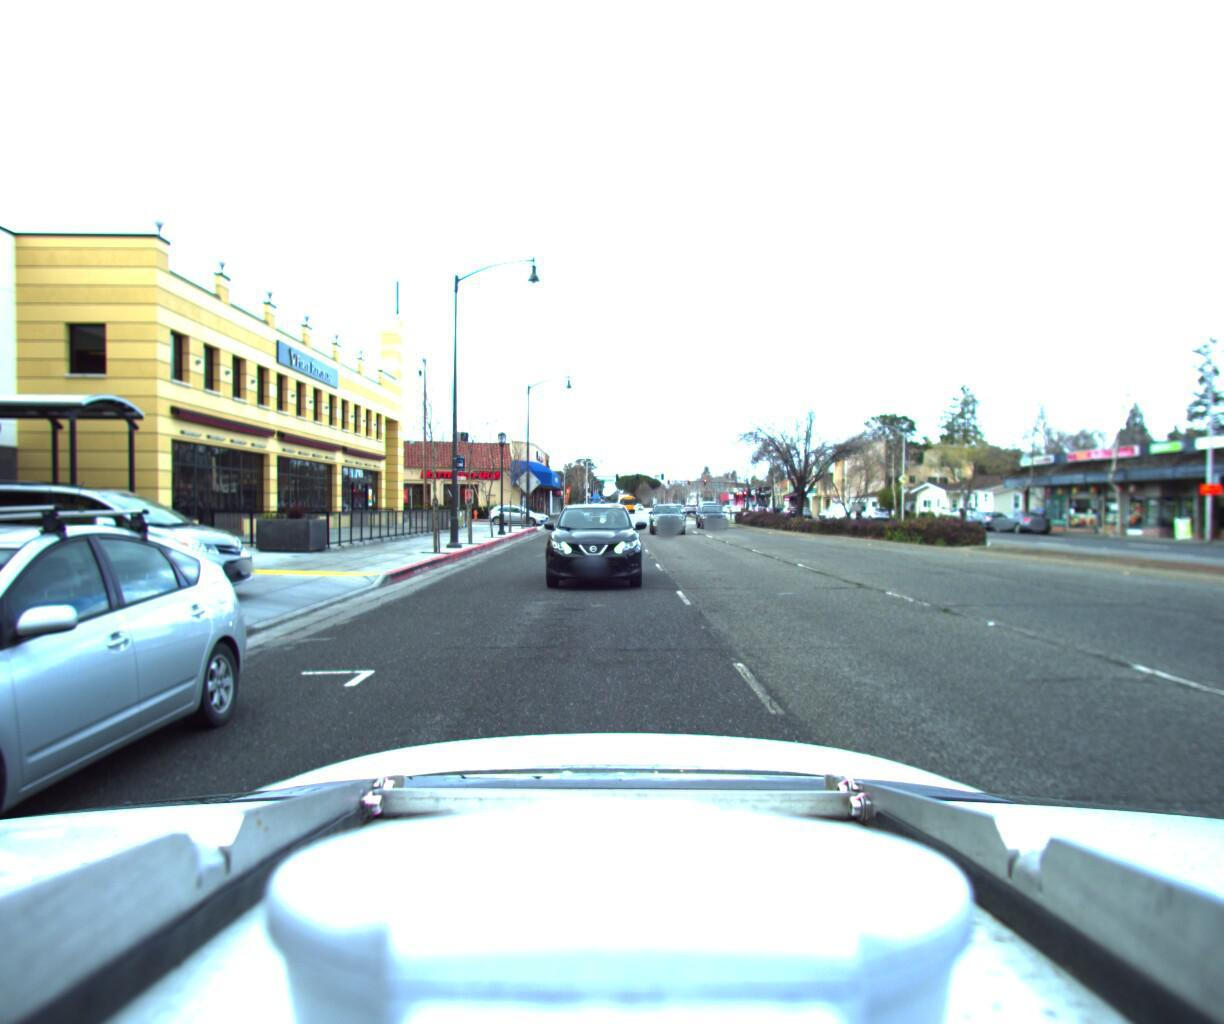car: (0, 509, 281, 1024), (0, 474, 269, 606), (544, 495, 646, 594), (988, 503, 1056, 529), (468, 496, 534, 519), (956, 502, 1011, 526), (652, 497, 690, 530), (693, 493, 731, 522), (819, 498, 853, 518), (856, 498, 891, 515)
